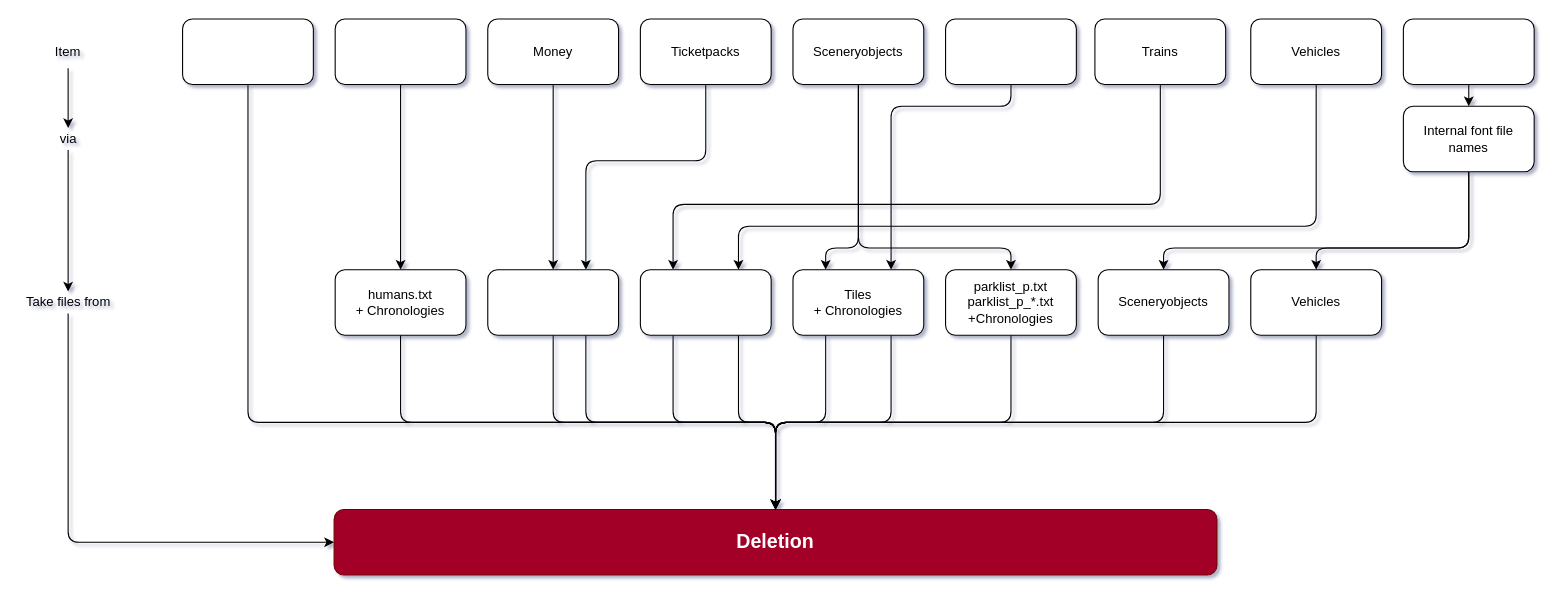
The diagram is 1560 pixels wide and 601 high, and some of its shapes have lost their labels. The centre of each missing label's shape, as x and y in pixels:
ailists.cfg + Chronologies (ailists_upd.txt): point 705,302
Fonts: point 1468,51
global.cfg + Chronologies: point 553,302
Humans: point 400,51
Maps *.prt: point 247,51
Splines: point 1010,51
